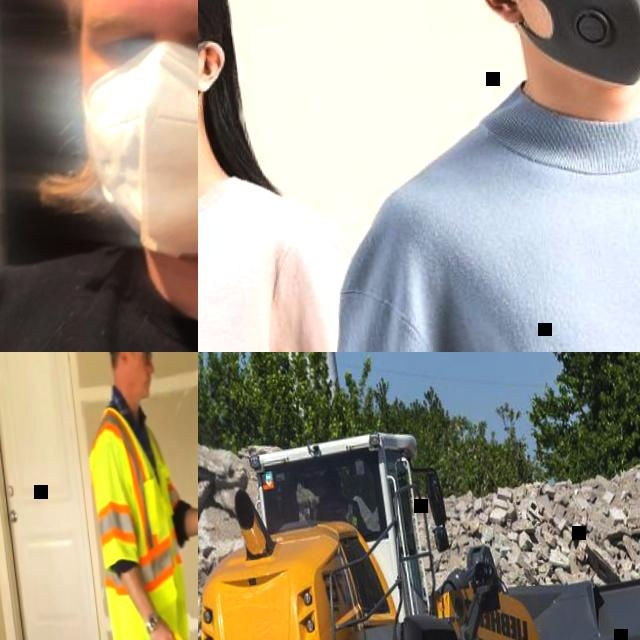Hardhat: (321, 468, 341, 486)
Mask: (503, 0, 640, 96), (198, 36, 234, 169)
NO-Mask: (78, 31, 198, 269), (124, 354, 151, 399)
NO-Safety Vest: (423, 101, 640, 352), (0, 200, 198, 352), (198, 185, 318, 352)
Person: (260, 0, 640, 352), (0, 0, 198, 352), (198, 0, 374, 352), (54, 352, 198, 640), (307, 465, 377, 545)
Safety Vest: (82, 400, 189, 612), (310, 496, 358, 532)
machinery: (198, 393, 640, 640)
